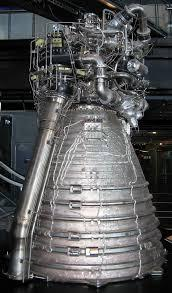thruster: (12, 119, 168, 287)
